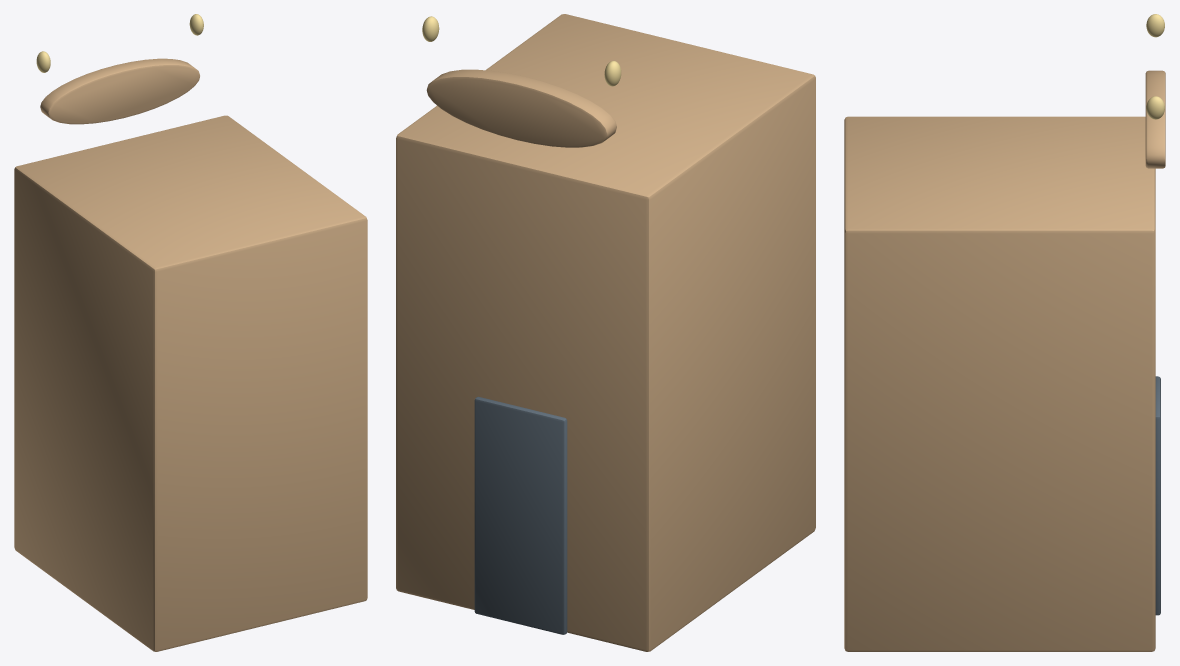
File: canal-house-bell-gable.glb
The picture shows the model from 3 angles, left to right: view 1: azimuth 30°, elevation 25°; view 2: azimuth 150°, elevation 25°; view 3: azimuth 270°, elevation 25°; orthographic projection. The views are drawn at different scales.
Parts seen in each view (by area): view 1: bell_MainBrickBody, bell_CurvedGableCrown; view 2: bell_MainBrickBody, bell_MonumentDoor, bell_CurvedGableCrown; view 3: bell_MainBrickBody, bell_CurvedGableCrown, bell_MonumentDoor.
Part boxes in pixels (x1,y1,x2,y2): bell_MainBrickBody: [14, 115, 367, 651]; bell_CurvedGableCrown: [40, 58, 199, 124]; bell_MainBrickBody: [396, 14, 815, 651]; bell_MonumentDoor: [474, 396, 567, 634]; bell_CurvedGableCrown: [426, 69, 616, 147]; bell_MainBrickBody: [844, 116, 1155, 651]; bell_CurvedGableCrown: [1145, 70, 1165, 168]; bell_MonumentDoor: [1155, 376, 1160, 615].
Size of the model in its own units: 2.1 by 4.6 by 2.48.
